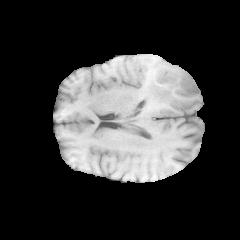glioma: (130, 62, 198, 112)
